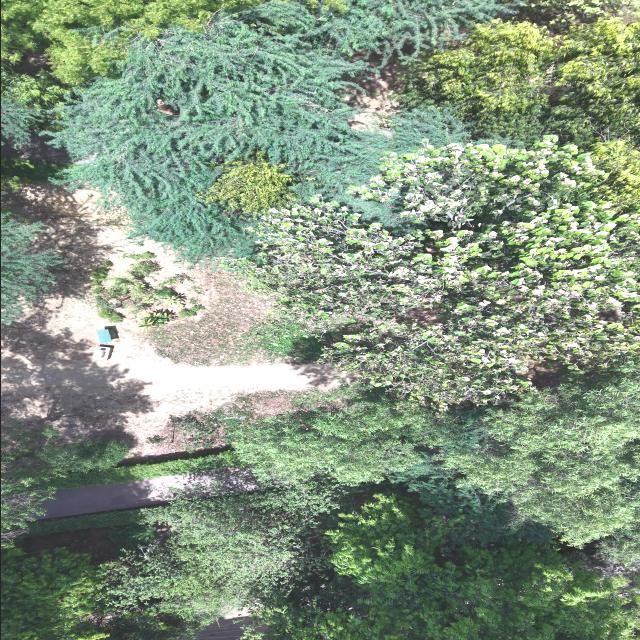DRY_AREA: (1, 183, 336, 456), (41, 468, 258, 518), (41, 468, 258, 517), (40, 476, 186, 518), (345, 62, 404, 137), (16, 527, 120, 562), (196, 612, 252, 639)
VEGETATION_TREE: (1, 0, 639, 639), (230, 23, 638, 557), (230, 127, 638, 543), (238, 137, 638, 548), (242, 20, 638, 404), (108, 396, 638, 639), (52, 0, 508, 262), (233, 137, 639, 404), (5, 477, 638, 639), (87, 475, 638, 639), (227, 362, 639, 547), (251, 495, 636, 639), (1, 0, 260, 144), (1, 0, 259, 144), (446, 372, 639, 545), (109, 483, 343, 619), (400, 19, 639, 145), (1, 422, 241, 538), (1, 510, 197, 639), (4, 425, 237, 533), (327, 480, 549, 584), (3, 0, 258, 84), (33, 0, 257, 84), (228, 400, 446, 484), (1, 547, 193, 639), (145, 276, 327, 366), (377, 460, 554, 545), (1, 423, 128, 529), (160, 386, 359, 451), (312, 0, 521, 60), (146, 286, 272, 366), (1, 547, 110, 639), (1, 202, 65, 323), (1, 44, 71, 148), (1, 211, 64, 324), (51, 452, 242, 488), (199, 157, 296, 217), (91, 261, 185, 322), (239, 320, 332, 364), (515, 0, 639, 33), (22, 508, 153, 538), (37, 439, 128, 477), (169, 410, 248, 451), (91, 261, 136, 322), (103, 612, 196, 639), (93, 278, 150, 321), (1, 158, 68, 194), (594, 524, 639, 570), (108, 521, 162, 558), (136, 311, 176, 332), (91, 261, 112, 296), (91, 261, 112, 287), (129, 260, 161, 277), (155, 290, 185, 308), (308, 0, 347, 11), (154, 287, 178, 304), (158, 274, 186, 286), (178, 305, 205, 317), (99, 310, 124, 322), (122, 252, 156, 260), (146, 436, 169, 445), (177, 308, 196, 318), (190, 304, 205, 311), (187, 298, 198, 305)
